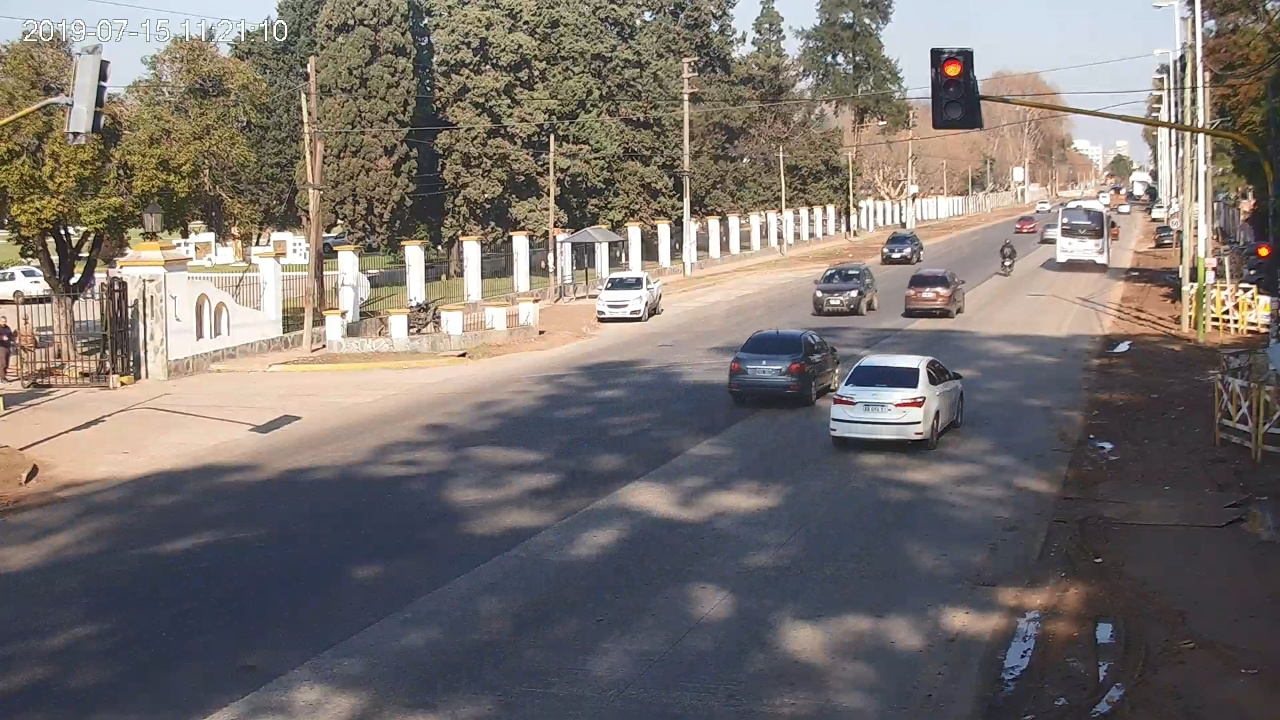car: (829, 355, 964, 449), (728, 329, 839, 403), (905, 268, 966, 318)
front car: (814, 263, 879, 315), (596, 272, 662, 321)
motorcycle: (1000, 238, 1017, 277)
traffic light: (939, 55, 966, 122), (1257, 243, 1272, 288)
